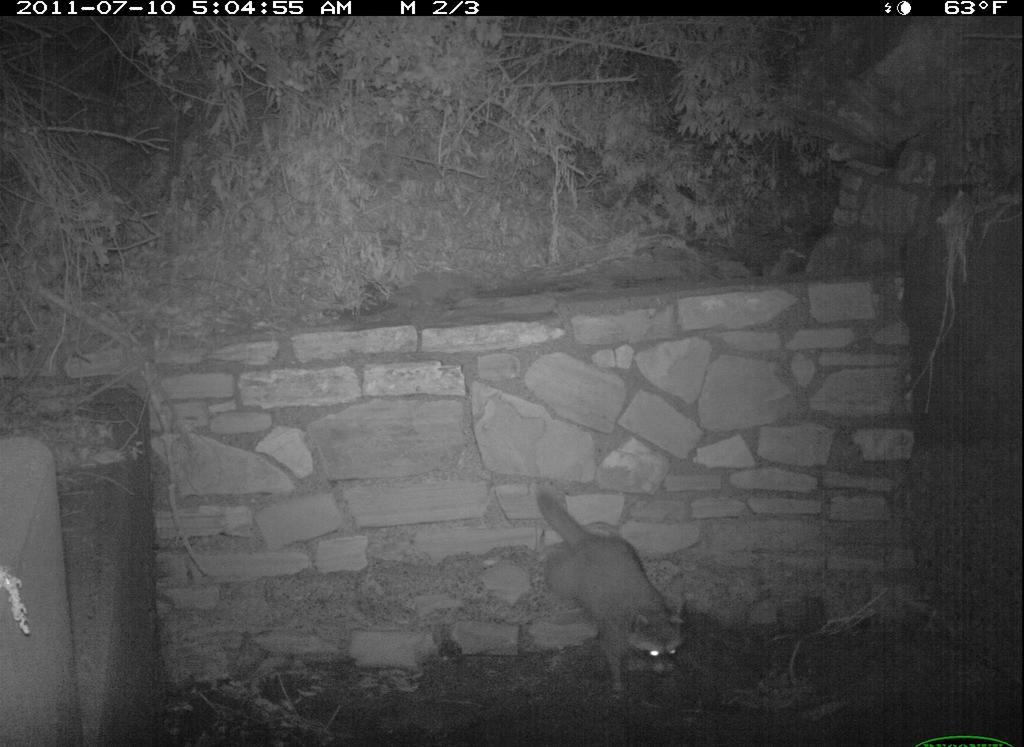raccoon: (513, 473, 706, 721)
